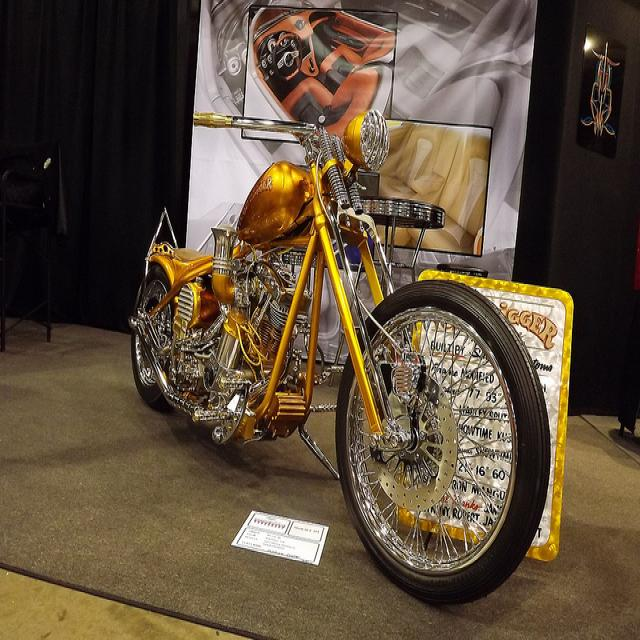motor: (134, 115, 534, 609)
